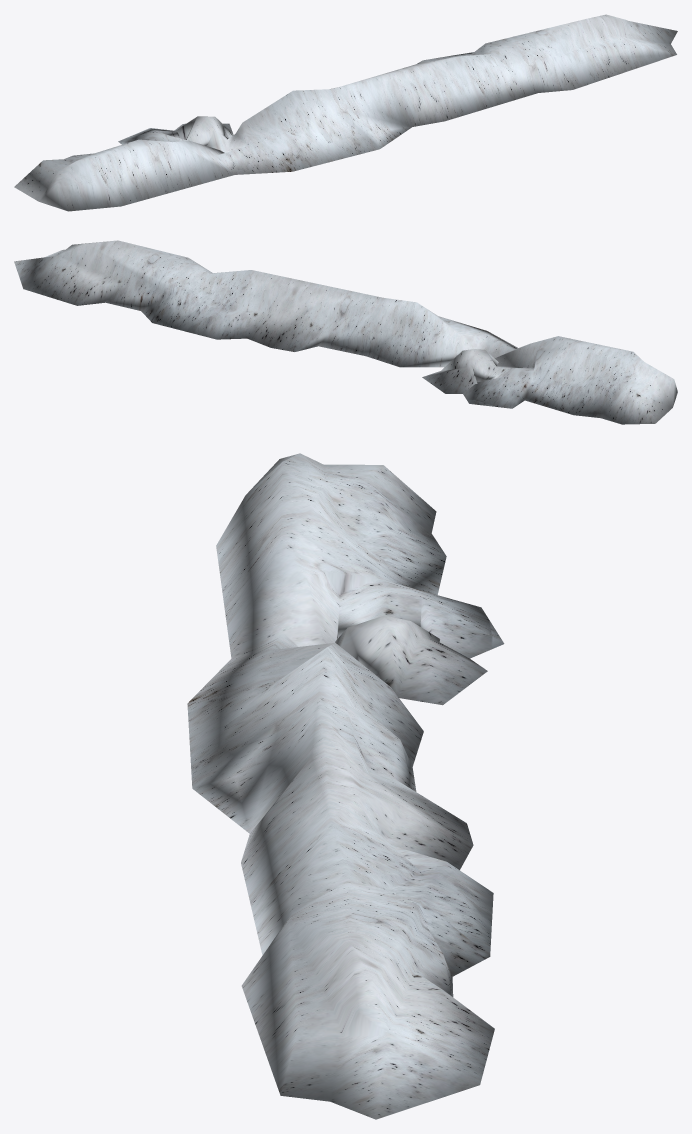
File: ykp_lumipenkka.glb
3 renders of one model, top to bottom at view 1: azimuth 30°, elevation 25°; view 2: azimuth 150°, elevation 25°; view 3: azimuth 270°, elevation 25°, orthographic. The views are drawn at different scales.
Visible parts, largest first — view 1: lumipenkka-col.001; view 2: lumipenkka-col.001; view 3: lumipenkka-col.001.
Part boxes in pixels (left/top/right/bottom): lumipenkka-col.001: left=14, top=14, right=677, bottom=211; lumipenkka-col.001: left=14, top=240, right=677, bottom=424; lumipenkka-col.001: left=187, top=453, right=504, bottom=1119.
Bounding box in the file's own units: 4.21 × 0.2835 × 0.8936.
Materials: 1 (1 with a texture image).
